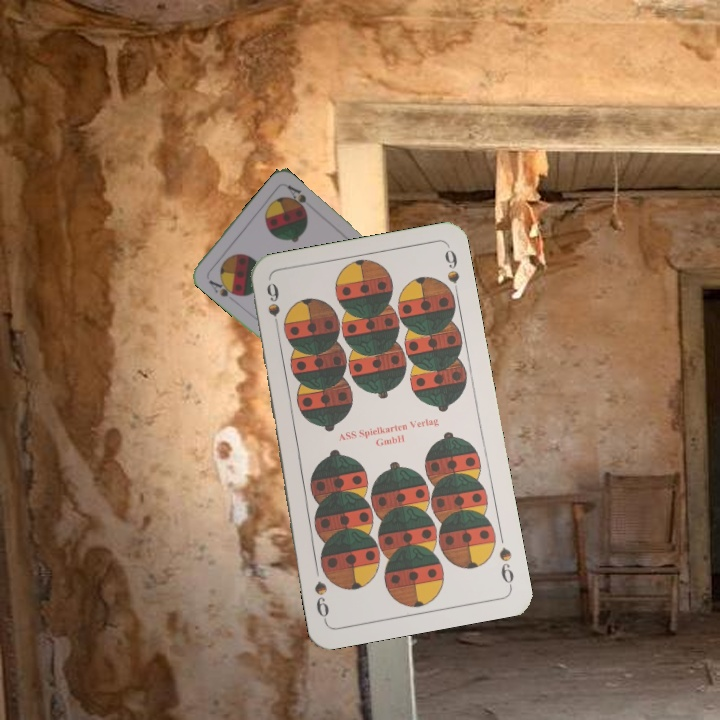S9: (262, 278, 283, 338), (495, 543, 517, 590)
SA: (205, 275, 241, 299)
